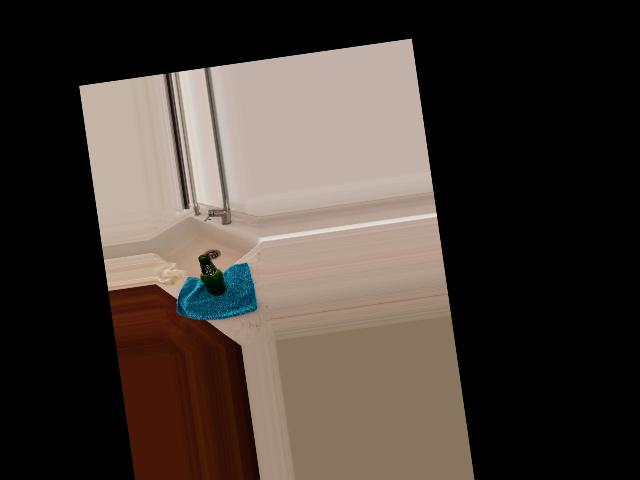beer: (197, 252, 226, 298)
